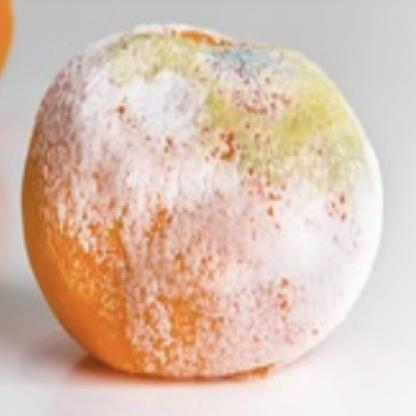rotten: (21, 21, 385, 377)
